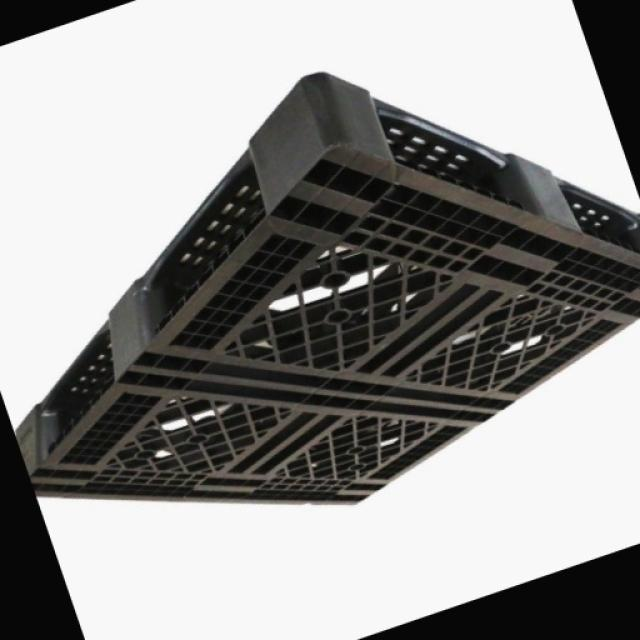non-igps: (12, 67, 640, 510)
